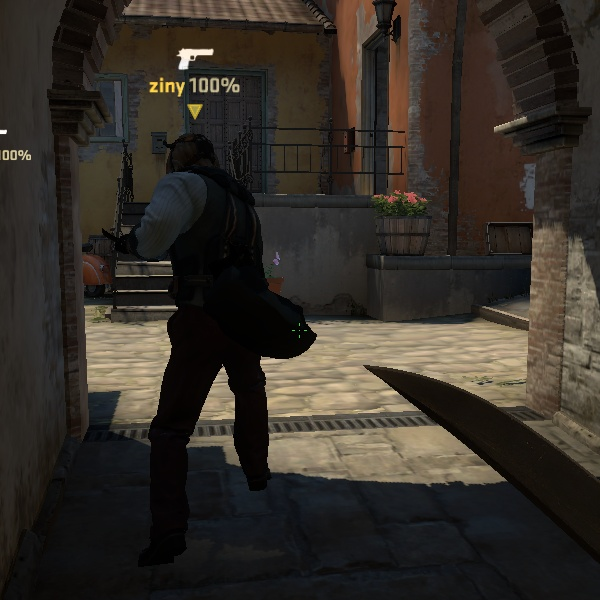ct_head: (154, 124, 226, 188)
t_body: (82, 125, 315, 521)
